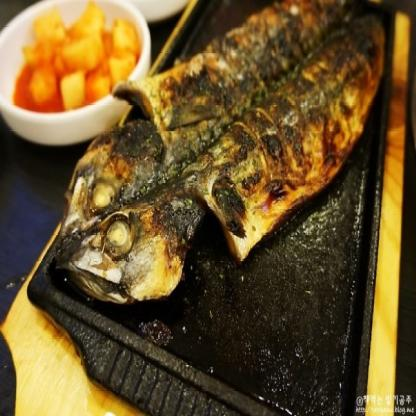Peixe: (63, 3, 393, 297)
